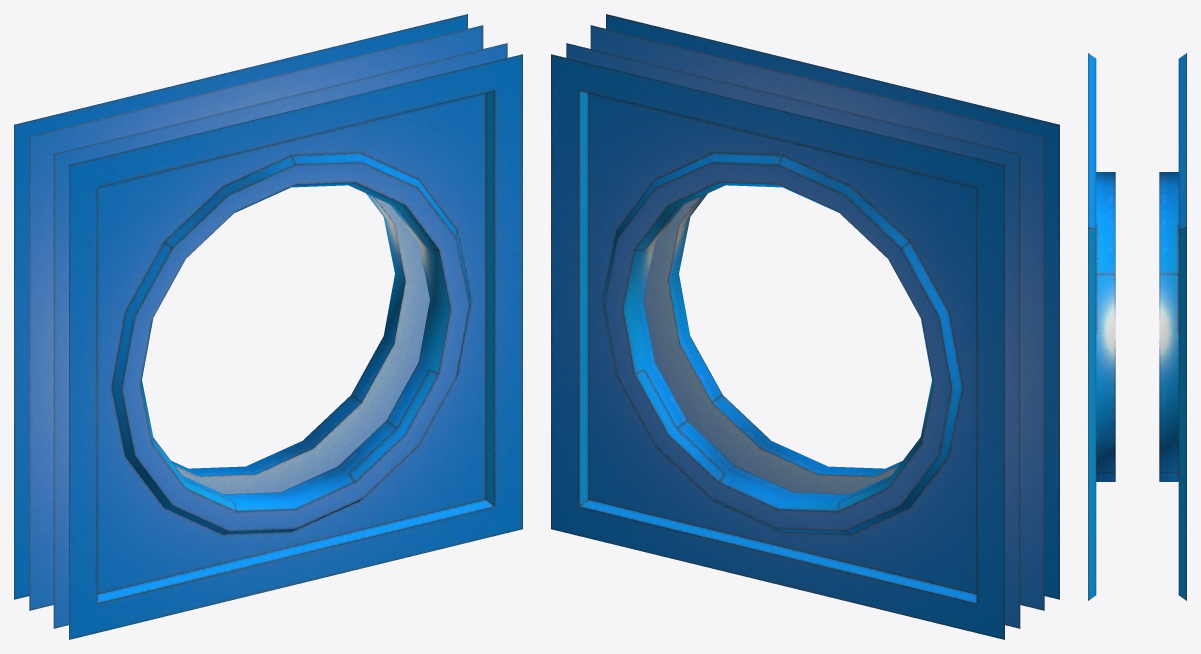
File: slot.obj
3 renders of one model, left to right at view 1: azimuth 30°, elevation 25°; view 2: azimuth 150°, elevation 25°; view 3: azimuth 270°, elevation 25°, orthographic. The views are drawn at different scales.
Parts seen in each view (by area): view 1: gameslot; view 2: gameslot; view 3: gameslot.
Boxes of the visible parts, x1,y1,x2,y2 form: gameslot: (14, 14, 522, 639); gameslot: (551, 14, 1059, 639); gameslot: (1088, 53, 1186, 600).
Size of the model in its own units: 33 by 33 by 6.91.
Materials: 1 (1 with a texture image).
